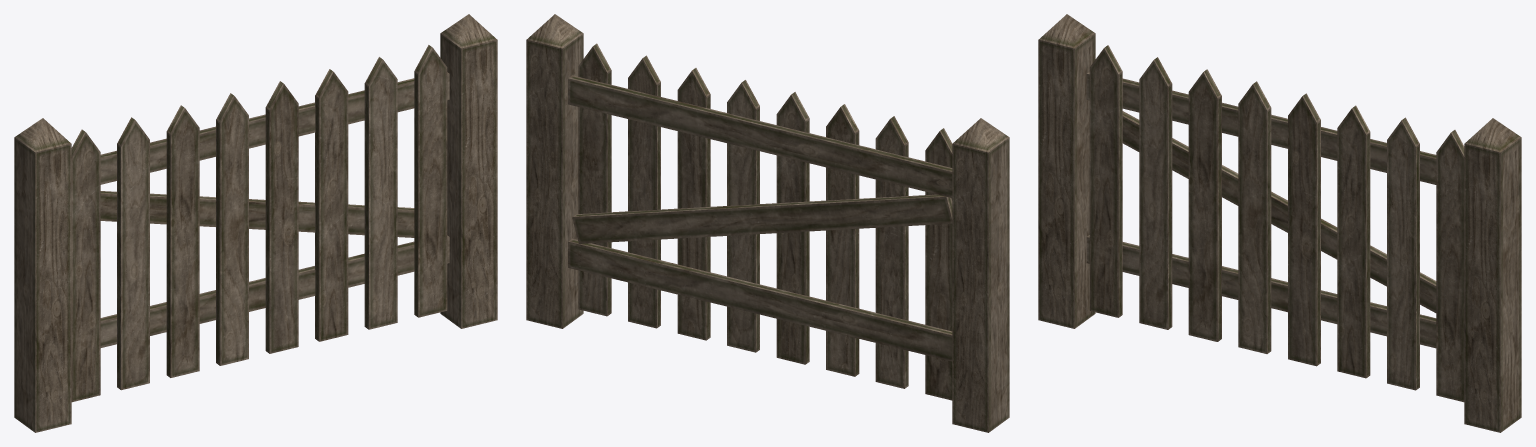
Rendered from fence.glb.
3 views of the same model, side by side, from view 1: azimuth 30°, elevation 25°; view 2: azimuth 150°, elevation 25°; view 3: azimuth 330°, elevation 25° (orthographic).
Visible parts, largest first — view 1: style1_linker_linker_0; view 2: style1_linker_linker_0; view 3: style1_linker_linker_0.
Part boxes in pixels (x1,y1,x2,y2): style1_linker_linker_0: (14,14,497,432); style1_linker_linker_0: (526,14,1009,432); style1_linker_linker_0: (1038,14,1521,432).
Size of the model in its own units: 2.06 by 1.29 by 0.1611.
2 materials, 2 textured.
